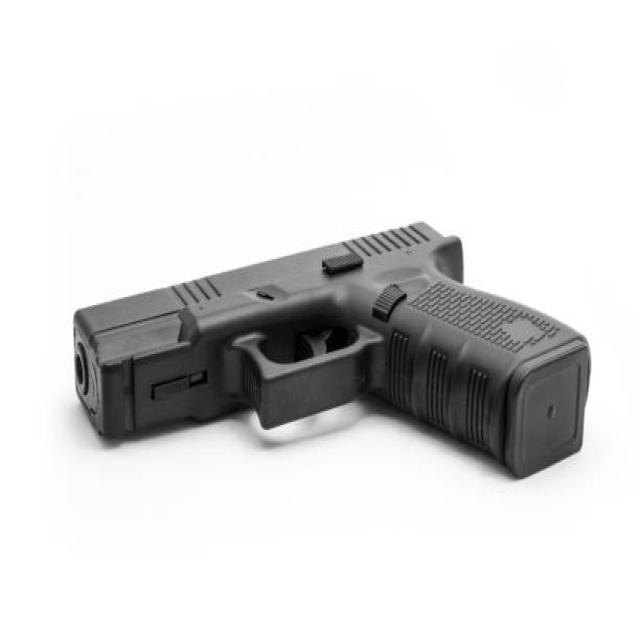pistol: (58, 216, 597, 489)
